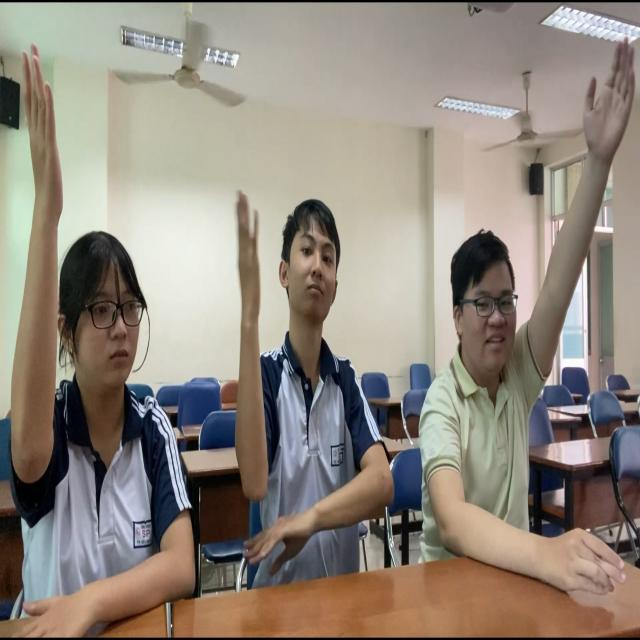raise_hand: (412, 22, 639, 599), (1, 4, 204, 640), (218, 170, 410, 592)
